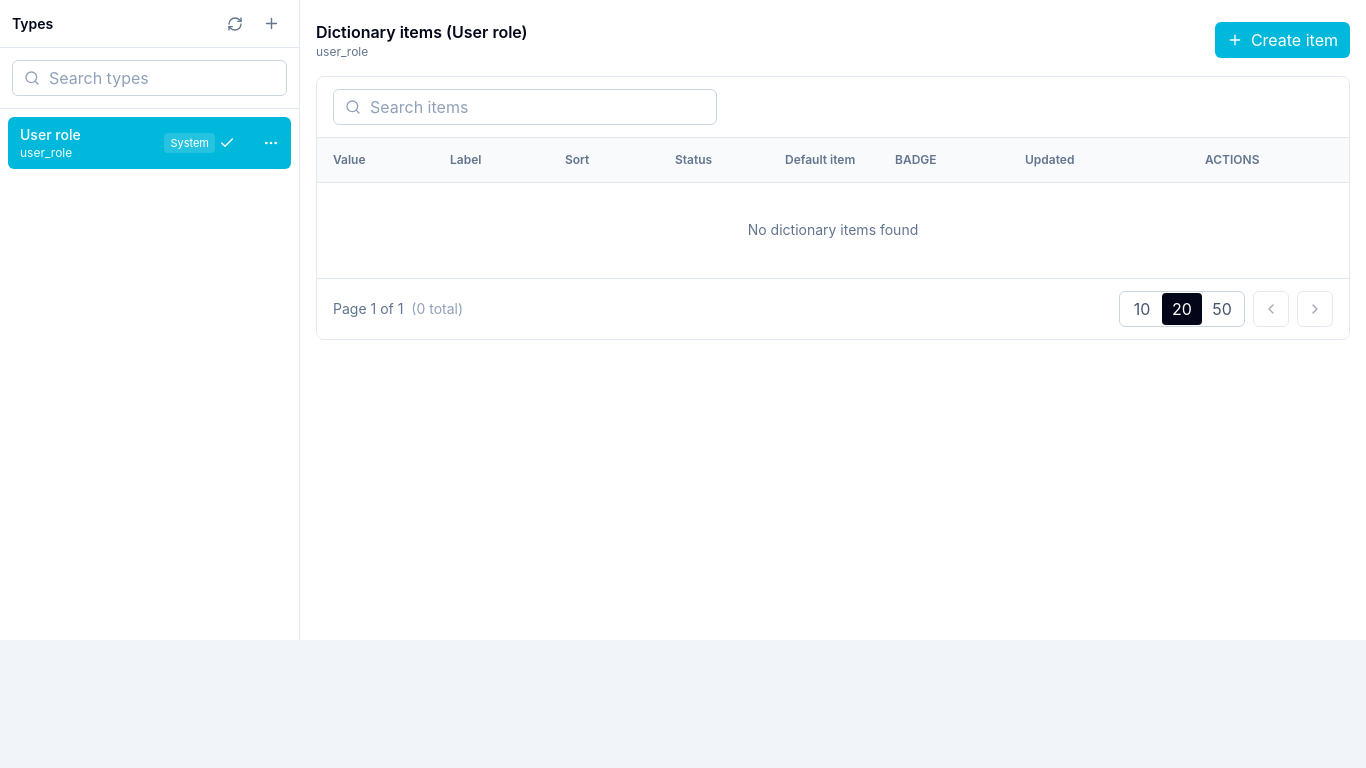
Test: DictionariesPage › validates required dictionary item fields
Check: the button with aria-label "Select user_role" is shown, box [8, 117, 247, 169]
Click the button "Create item" at (1282, 40), box [1215, 22, 1350, 58]
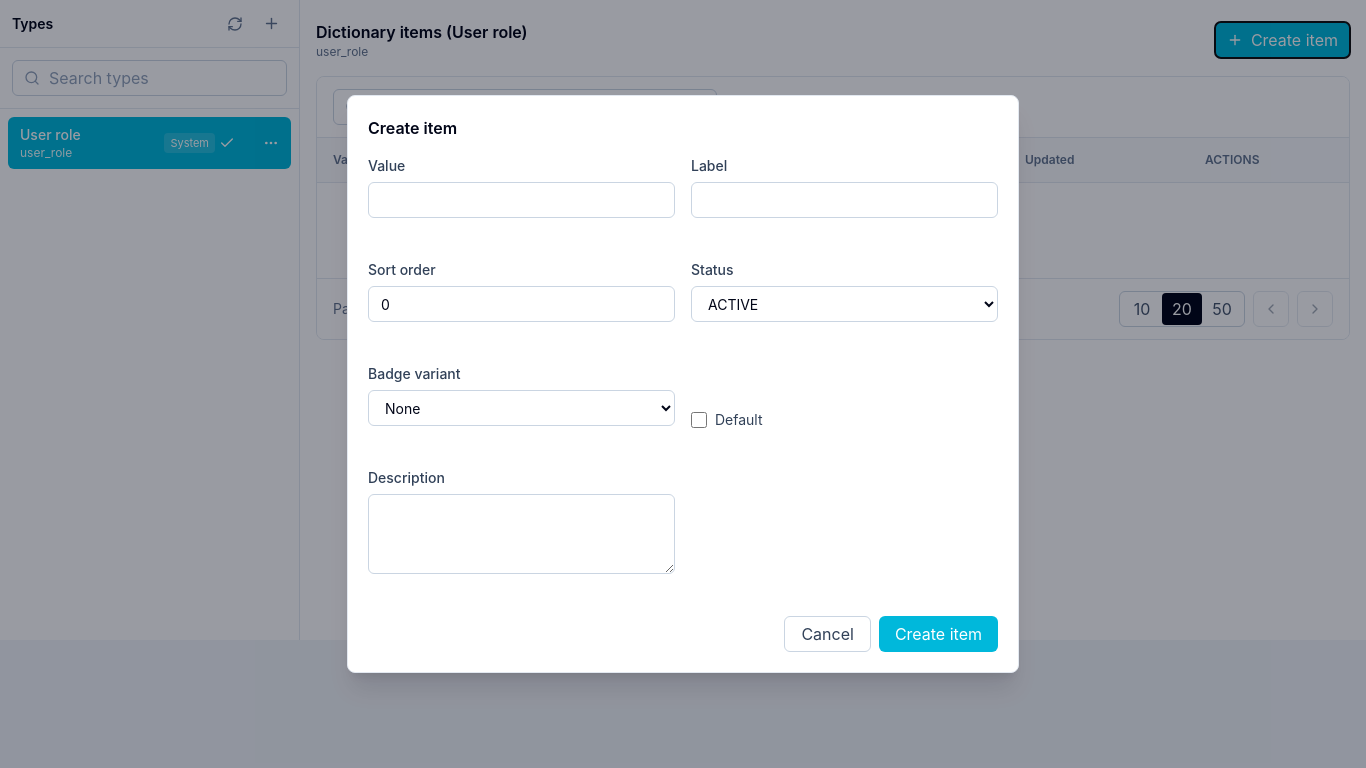
Click the button "Create item" at (938, 634), box [879, 616, 998, 652]
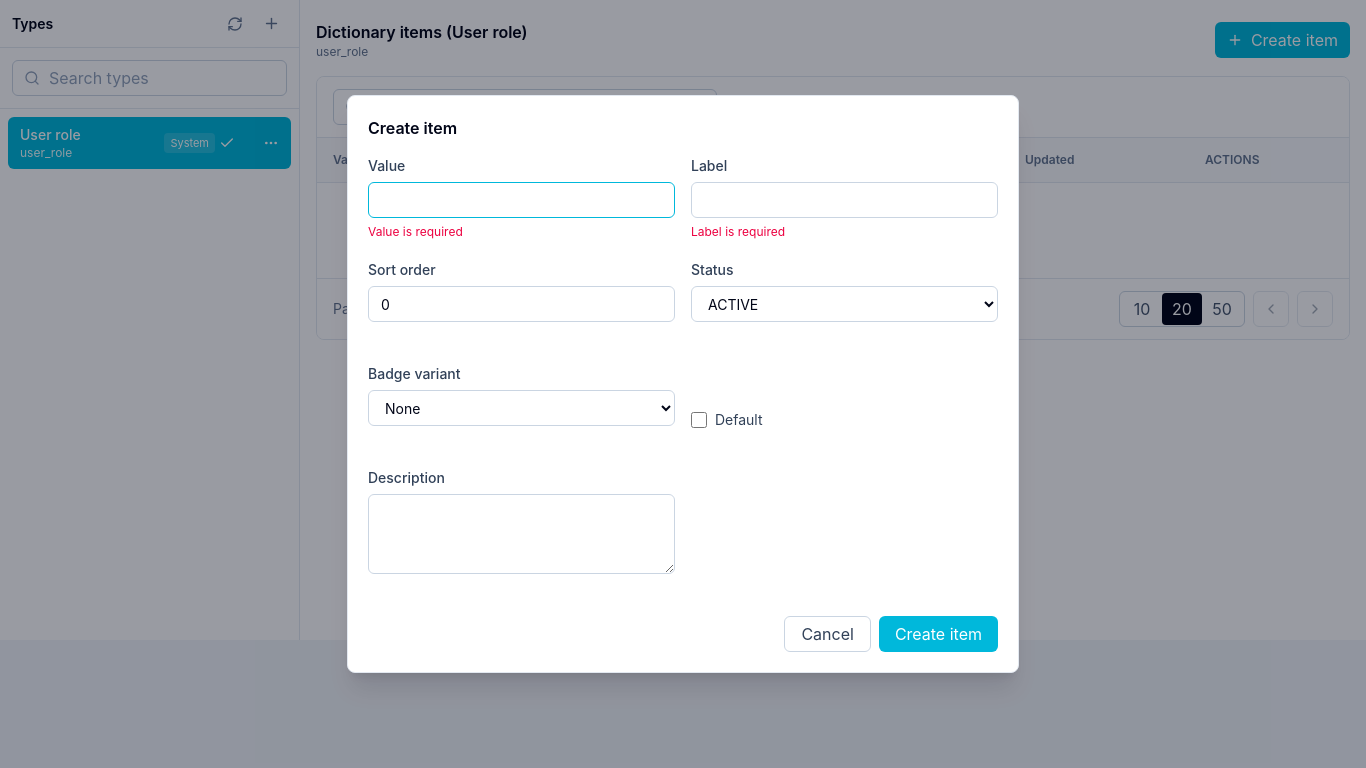
Check: the text "Value is required" is shown, box [368, 224, 463, 239]
Check: the text "Label is required" is shown, box [691, 224, 785, 239]
